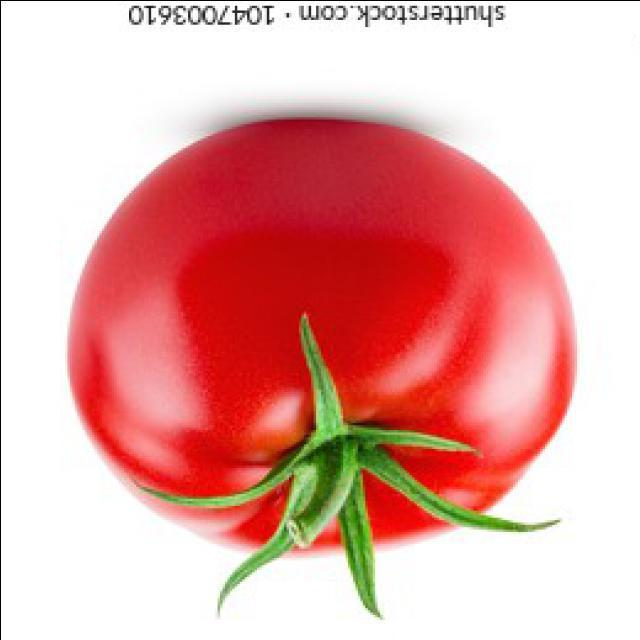Tomato: (64, 117, 580, 612)
